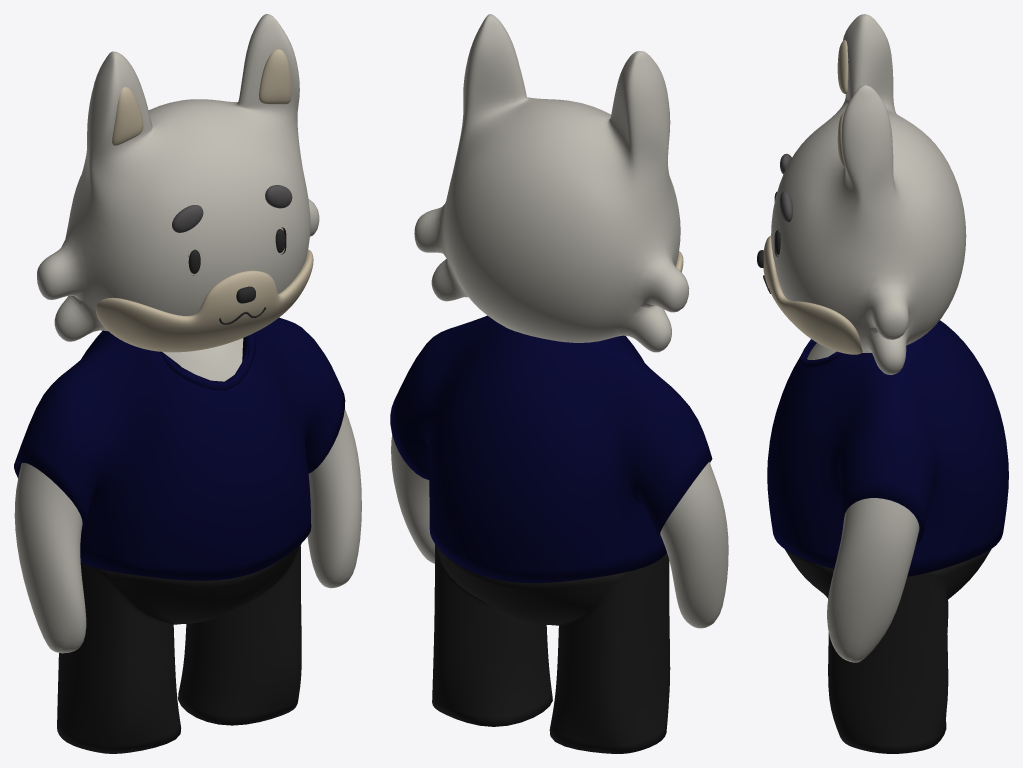
Rendered from uzun boy beyaz.fbx.
The picture shows the model from 3 angles, left to right: view 1: azimuth 30°, elevation 25°; view 2: azimuth 150°, elevation 25°; view 3: azimuth 270°, elevation 25°; orthographic projection. The views are drawn at different scales.
Visible parts, largest first — view 1: Cube.004, Cube, Cube.009, Cube.001, Cube.002, Cube.003, Cube.006; view 2: Cube.004, Cube, Cube.009, Cube.001; view 3: Cube.004, Cube, Cube.009, Cube.001, Cube.002, Cube.003, Cube.006.
Part boxes in pixels (x1=…): Cube.004: x1=14, y1=317, x2=345, y2=580; Cube: x1=37, y1=14, x2=319, y2=341; Cube.009: x1=57, y1=543, x2=301, y2=753; Cube.001: x1=14, y1=338, x2=361, y2=653; Cube.002: x1=95, y1=249, x2=313, y2=352; Cube.003: x1=112, y1=49, x2=291, y2=145; Cube.006: x1=172, y1=185, x2=292, y2=232; Cube.004: x1=390, y1=315, x2=712, y2=583; Cube: x1=414, y1=14, x2=689, y2=352; Cube.009: x1=432, y1=544, x2=670, y2=753; Cube.001: x1=391, y1=435, x2=728, y2=628; Cube.004: x1=767, y1=320, x2=1008, y2=576; Cube: x1=771, y1=14, x2=966, y2=374; Cube.009: x1=785, y1=549, x2=991, y2=753; Cube.001: x1=807, y1=343, x2=919, y2=662; Cube.002: x1=763, y1=235, x2=862, y2=354; Cube.003: x1=837, y1=40, x2=848, y2=168; Cube.006: x1=780, y1=153, x2=792, y2=222.
Size of the model in its own units: 178 by 357 by 125.
